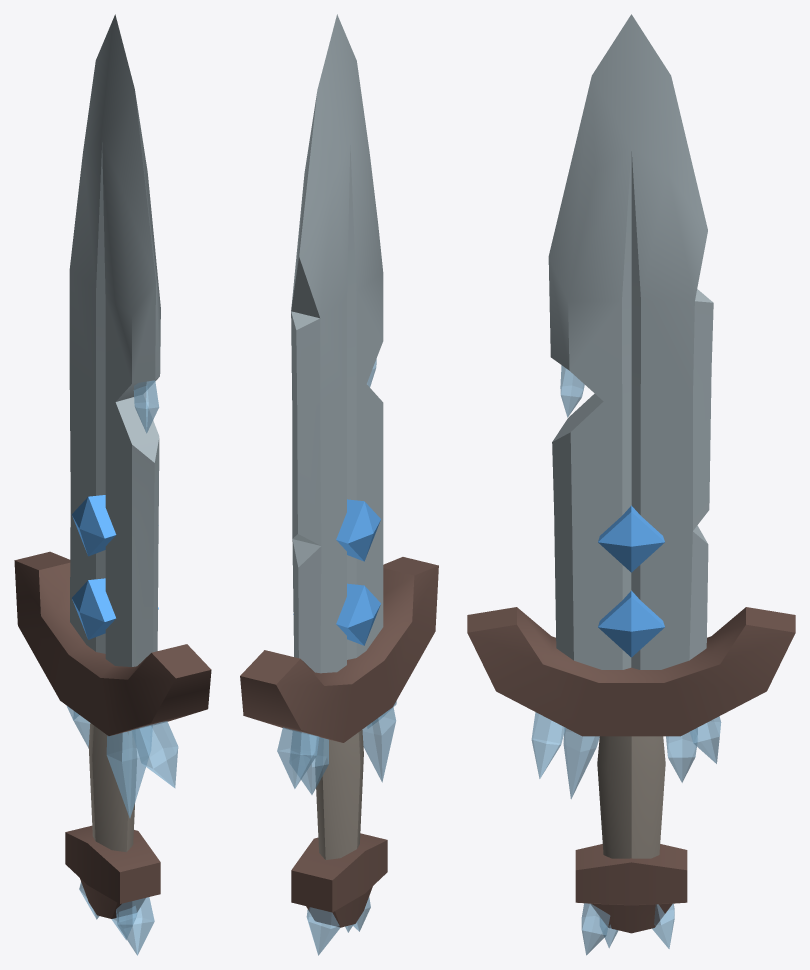
Rendered from jotunn_sword.fbx.
3 views of the same model, side by side, from view 1: azimuth 30°, elevation 25°; view 2: azimuth 150°, elevation 25°; view 3: azimuth 270°, elevation 25° (orthographic).
Visible parts, largest first — view 1: jotunn_sword; view 2: jotunn_sword; view 3: jotunn_sword.
Part boxes in pixels (x1,y1,x2,y2): jotunn_sword: (14,14,211,955); jotunn_sword: (240,14,438,955); jotunn_sword: (467,14,795,955).
Bounding box in the file's own units: 0.1091 × 1.34 × 0.4241.
